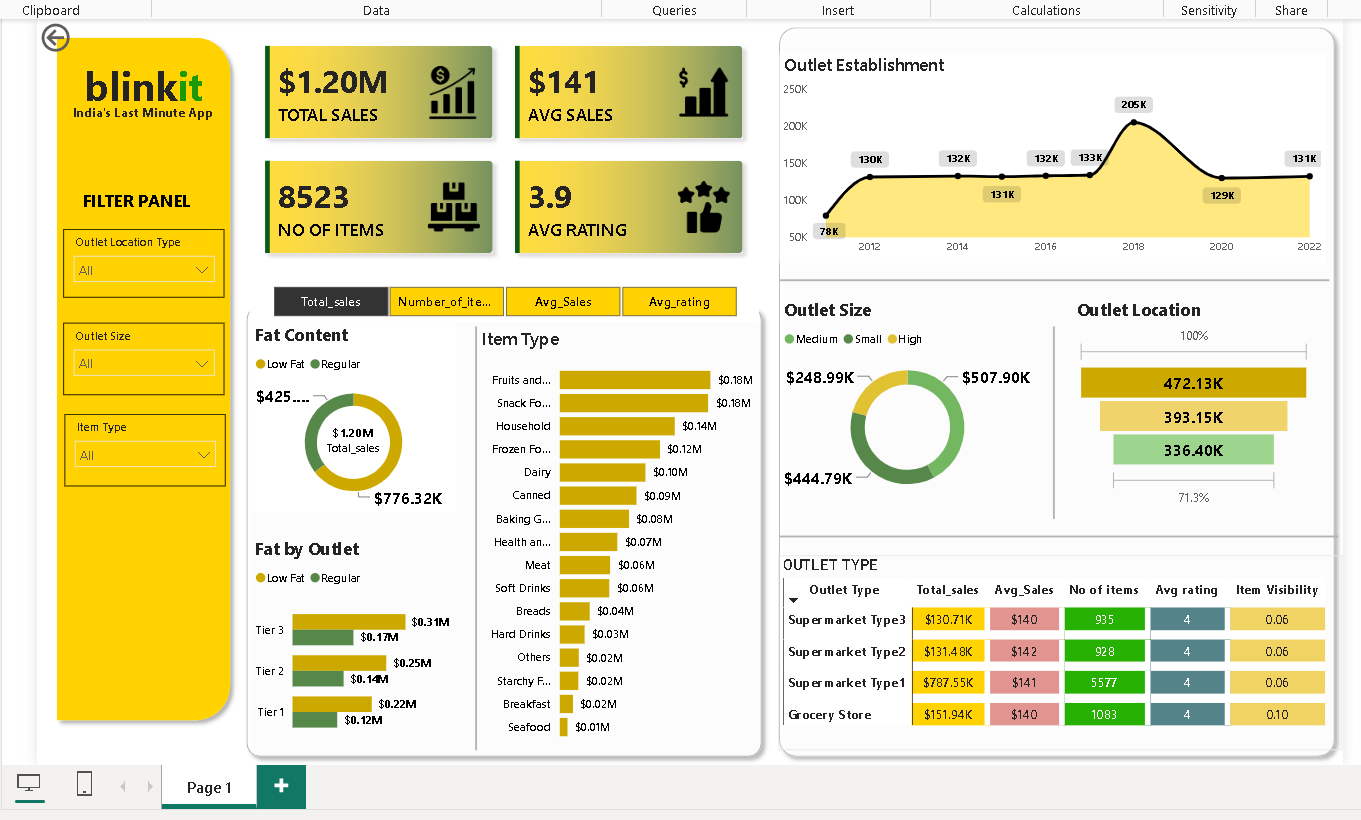

What the dashboard file says about the page in this screenshot:
{"tool":"powerbi","page":{"name":"Page 1","canvas":[1400,800],"ordinal":0},"visuals":[{"type":"shape","box":[12,10.5,204.1,750.4],"z":0},{"type":"textbox","box":[31.5,37.5,165.1,76.5],"z":1000},{"type":"textbox","box":[31.5,85.5,165.1,28.5],"z":2000},{"type":"cardVisual","fields":{"Data":["BlinkIT Grocery Data.Total_sales","BlinkIT Grocery Data.Avg_Sales","BlinkIT Grocery Data.Number_of_items","BlinkIT Grocery Data.Avg_rating"]},"box":[216.1,0,570.3,280.7],"z":3000},{"type":"shape","box":[216.1,298.7,570.3,501.3],"z":4000},{"type":"donutChart","title":" Fat Content","fields":{"Y":["BlinkIT Grocery Data.Total_sales"],"Category":["BlinkIT Grocery Data.Item Fat Content"]},"box":[229.6,325.7,220.6,204.1],"z":5000},{"type":"slicer","fields":{"Values":["Metrics.Metrics"]},"box":[228.1,280.7,546.3,45],"z":6000},{"type":"cardVisual","fields":{"Data":["BlinkIT Grocery Data.Total_sales"]},"box":[265.7,400.7,147.1,100.6],"z":7000},{"type":"clusteredBarChart","title":"Fat by Outlet ","fields":{"Y":["BlinkIT Grocery Data.Total_sales"],"Category":["BlinkIT Grocery Data.Outlet Location Type"],"Series":["BlinkIT Grocery Data.Item Fat Content"]},"box":[229.6,555.3,220.6,229.6],"z":8000},{"type":"shape","box":[360.2,330.2,220.6,454.8],"z":9000},{"type":"barChart","title":" Item Type","fields":{"Y":["BlinkIT Grocery Data.Total_sales"],"Category":["BlinkIT Grocery Data.Item Type"]},"box":[471.3,330.2,303.2,454.8],"z":10000},{"type":"shape","box":[786.5,0,613.9,800],"z":11000},{"type":"lineChart","title":" Outlet Establishment ","fields":{"Category":["BlinkIT Grocery Data.Outlet Establishment Year"],"Y":["Sum(BlinkIT Grocery Data.Sales)"]},"box":[796.3,36.2,585.8,225.2],"z":12000},{"type":"donutChart","title":"Outlet Size","fields":{"Y":["BlinkIT Grocery Data.Total_sales"],"Category":["BlinkIT Grocery Data.Outlet Size"]},"box":[796.3,298.9,274.8,225.2],"z":14000},{"type":"shape","box":[979.9,329.8,221.2,206.4],"z":15000},{"type":"funnel","title":" Outlet Location ","fields":{"Category":["BlinkIT Grocery Data.Outlet Location Type"],"Y":["Sum(BlinkIT Grocery Data.Sales)"]},"box":[1109.9,298.9,261.4,229.2],"z":16000},{"type":"shape","box":[796.3,536.2,599.2,37.5],"z":17000},{"type":"pivotTable","title":"OUTLET TYPE","fields":{"Rows":["BlinkIT Grocery Data.Outlet Type"],"Values":["BlinkIT Grocery Data.Total_sales","BlinkIT Grocery Data.Avg_Sales","BlinkIT Grocery Data.Number_of_items","BlinkIT Grocery Data.Avg rating","Avg(BlinkIT Grocery Data.Item Visibility)"]},"box":[794.9,575.1,604.6,209.1],"z":18000},{"type":"actionButton","box":[0,0,100,40],"z":19000},{"type":"slicer","fields":{"Values":["BlinkIT Grocery Data.Outlet Location Type"]},"box":[28.2,225.2,172.9,73.7],"z":20000},{"type":"shape","box":[796.3,261.4,589.8,37.5],"z":21000},{"type":"slicer","fields":{"Values":["BlinkIT Grocery Data.Outlet Size"]},"box":[28.2,325.7,172.9,77.7],"z":22000},{"type":"slicer","fields":{"Values":["BlinkIT Grocery Data.Item Type"]},"box":[29.5,423.6,172.9,77.7],"z":23000},{"type":"textbox","box":[12.1,176.9,190.3,38.9],"z":24000}]}

Visuals, with their boxes on the page's 1400x800 design canvas (x1, y1, x2, y2). These are canvas units, not pixel positions in the 1361x820 screenshot, which may show the page scaled, cropped or inside an application window:
shape: left=12, top=10, right=216, bottom=761
textbox: left=32, top=38, right=197, bottom=114
textbox: left=32, top=86, right=197, bottom=114
cardVisual - BlinkIT Grocery Data.Total_sales x BlinkIT Grocery Data.Avg_Sales: left=216, top=0, right=786, bottom=281
shape: left=216, top=299, right=786, bottom=800
" Fat Content" donutChart: left=230, top=326, right=450, bottom=530
slicer - Metrics.Metrics: left=228, top=281, right=774, bottom=326
cardVisual - BlinkIT Grocery Data.Total_sales: left=266, top=401, right=413, bottom=501
"Fat by Outlet " clusteredBarChart: left=230, top=555, right=450, bottom=785
shape: left=360, top=330, right=581, bottom=785
" Item Type" barChart: left=471, top=330, right=774, bottom=785
shape: left=786, top=0, right=1400, bottom=800
" Outlet Establishment " lineChart: left=796, top=36, right=1382, bottom=261
"Outlet Size" donutChart: left=796, top=299, right=1071, bottom=524
shape: left=980, top=330, right=1201, bottom=536
" Outlet Location " funnel: left=1110, top=299, right=1371, bottom=528
shape: left=796, top=536, right=1396, bottom=574
"OUTLET TYPE" pivotTable: left=795, top=575, right=1400, bottom=784
actionButton: left=0, top=0, right=100, bottom=40
slicer - BlinkIT Grocery Data.Outlet Location Type: left=28, top=225, right=201, bottom=299
shape: left=796, top=261, right=1386, bottom=299
slicer - BlinkIT Grocery Data.Outlet Size: left=28, top=326, right=201, bottom=403
slicer - BlinkIT Grocery Data.Item Type: left=30, top=424, right=202, bottom=501
textbox: left=12, top=177, right=202, bottom=216
